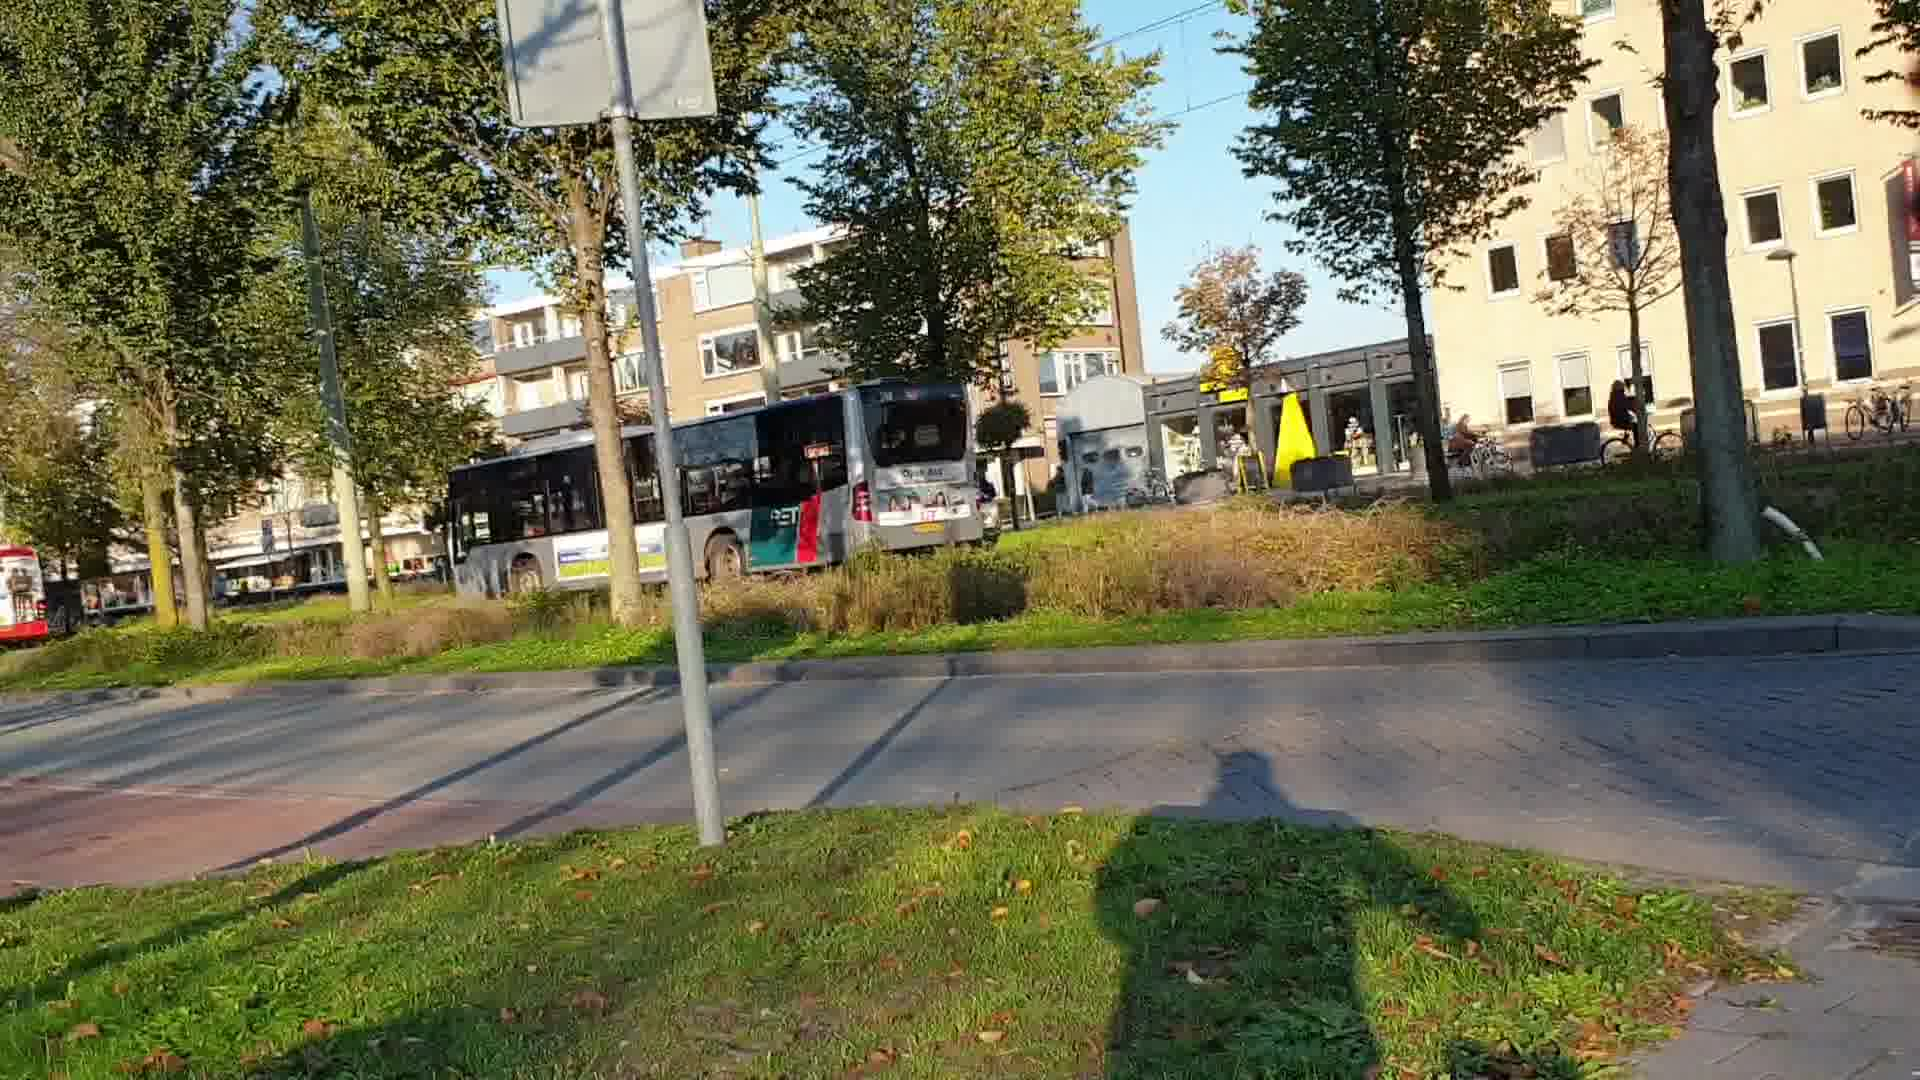car: (454, 394, 998, 599)
